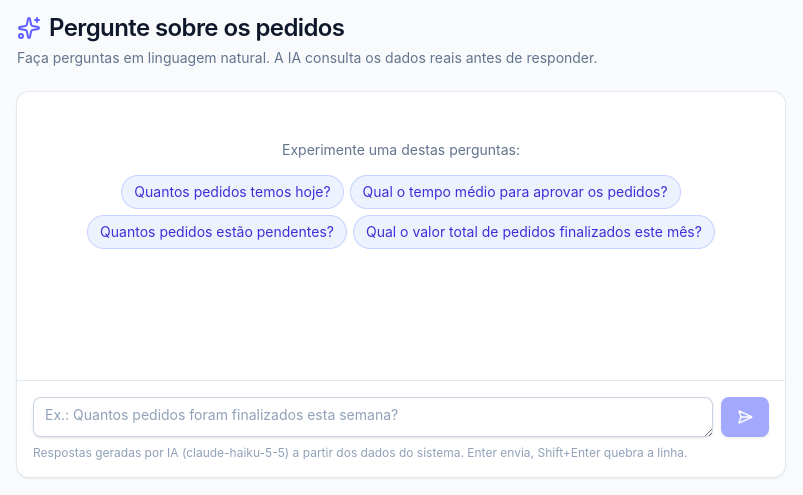
it: AssistantPage › envia uma pergunta de exemplo e mostra a resposta com as consultas realizadas
Step 1. Click the button "Quantos pedidos estão pendentes?" → (217,232), box x1=88 y1=216 x2=346 y2=248
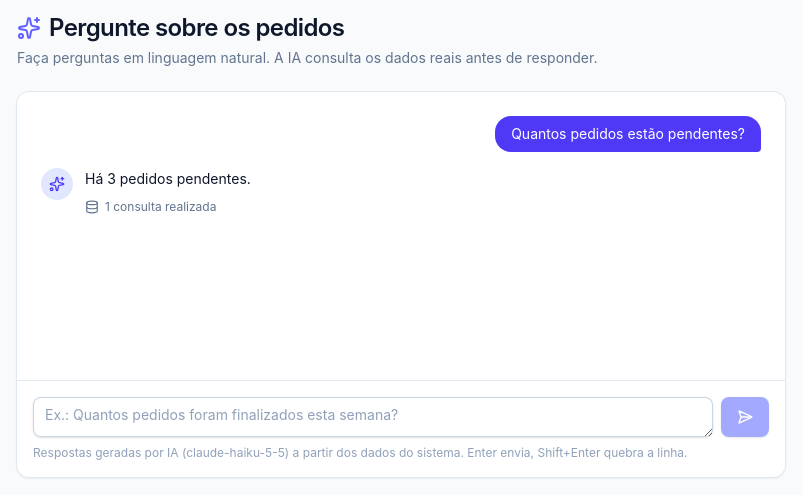
Expected: the text "Quantos pedidos estão pendentes?" is shown, x1=495 y1=116 x2=761 y2=152
Now the text "Há 3 pedidos pendentes." is shown, box x1=85 y1=170 x2=251 y2=187
Now the heading "1 consulta realizada" is shown, box x1=85 y1=199 x2=216 y2=215
